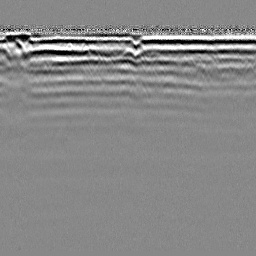cavity: (122, 46, 138, 70)
